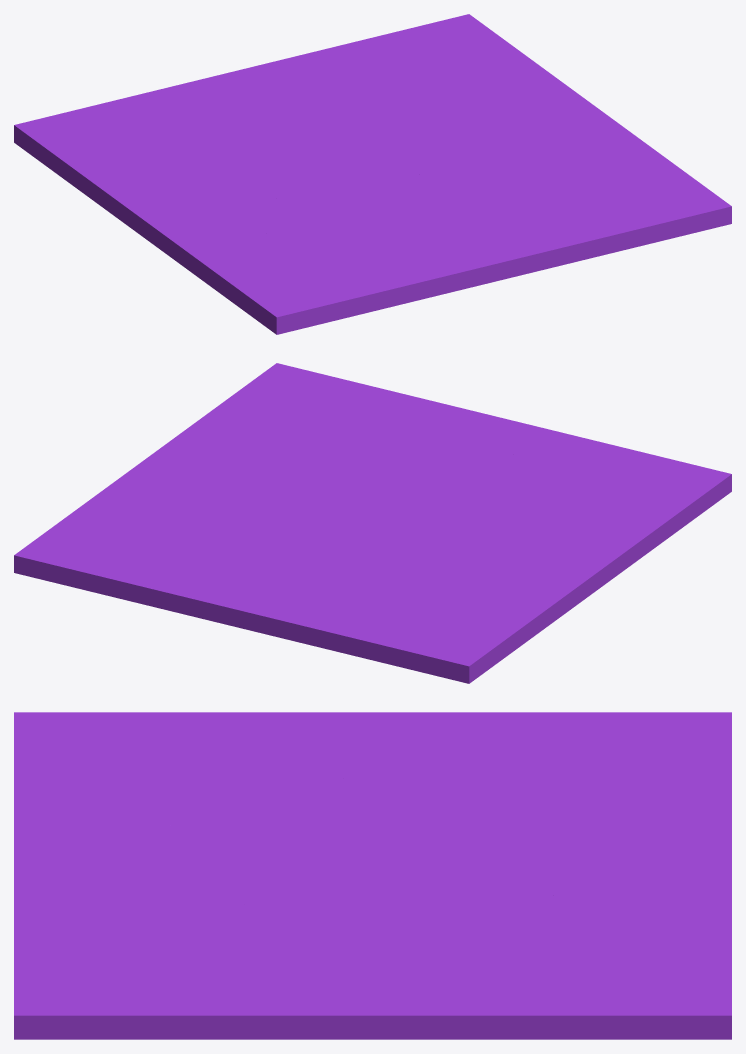
Rendered from Platform_30_chunks.fbx.
3 renders of one model, top to bottom at view 1: azimuth 30°, elevation 25°; view 2: azimuth 150°, elevation 25°; view 3: azimuth 270°, elevation 25°, orthographic. The views are drawn at different scales.
Visible parts, largest first — view 1: Platform_30_3, Platform_30_7, Platform_30_9, Platform_30_6, Platform_30_2, Platform_30_10, Platform_30_8, Platform_30_12, Platform_30_1, Platform_30_11, Platform_30_4, Platform_30_5; view 2: Platform_30_9, Platform_30_7, Platform_30_3, Platform_30_6, Platform_30_2, Platform_30_10, Platform_30_8, Platform_30_12, Platform_30_1, Platform_30_11, Platform_30_4, Platform_30_5; view 3: Platform_30_7, Platform_30_6, Platform_30_3, Platform_30_9, Platform_30_2, Platform_30_10, Platform_30_8, Platform_30_12, Platform_30_1, Platform_30_11, Platform_30_4, Platform_30_5.
Part boxes in pixels (<box>): Platform_30_3: <box>174,223,488,334</box>; Platform_30_7: <box>333,14,620,132</box>; Platform_30_9: <box>14,68,251,190</box>; Platform_30_6: <box>454,125,731,237</box>; Platform_30_2: <box>384,172,676,283</box>; Platform_30_10: <box>246,47,373,162</box>; Platform_30_8: <box>336,56,482,180</box>; Platform_30_12: <box>162,143,374,234</box>; Platform_30_1: <box>161,166,404,259</box>; Platform_30_11: <box>80,157,211,249</box>; Platform_30_4: <box>359,207,508,271</box>; Platform_30_5: <box>476,126,524,147</box>; Platform_30_9: <box>237,570,544,683</box>; Platform_30_7: <box>14,444,240,606</box>; Platform_30_3: <box>498,424,731,565</box>; Platform_30_6: <box>166,363,362,483</box>; Platform_30_2: <box>333,377,499,499</box>; Platform_30_10: <box>149,516,387,628</box>; Platform_30_8: <box>166,477,373,582</box>; Platform_30_12: <box>367,514,618,577</box>; Platform_30_1: <box>369,490,631,575</box>; Platform_30_11: <box>437,557,618,635</box>; Platform_30_4: <box>452,417,526,490</box>; Platform_30_5: <box>229,475,280,496</box>; Platform_30_7: <box>316,921,731,1039</box>; Platform_30_6: <box>14,894,361,1039</box>; Platform_30_3: <box>14,712,288,848</box>; Platform_30_9: <box>506,712,731,866</box>; Platform_30_2: <box>14,841,332,977</box>; Platform_30_10: <box>381,818,731,925</box>; Platform_30_8: <box>276,864,704,942</box>; Platform_30_12: <box>323,712,519,865</box>; Platform_30_1: <box>220,712,369,875</box>; Platform_30_11: <box>327,712,525,788</box>; Platform_30_4: <box>14,817,248,866</box>; Platform_30_5: <box>349,931,411,962</box>.
Size of the model in its own units: 810 by 29.87 by 810.
